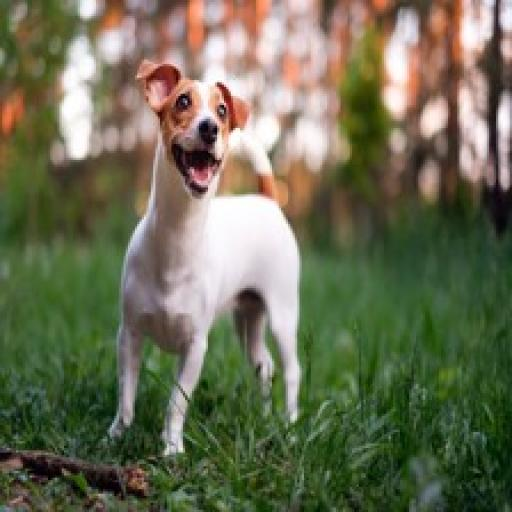dog: (90, 56, 308, 470)
